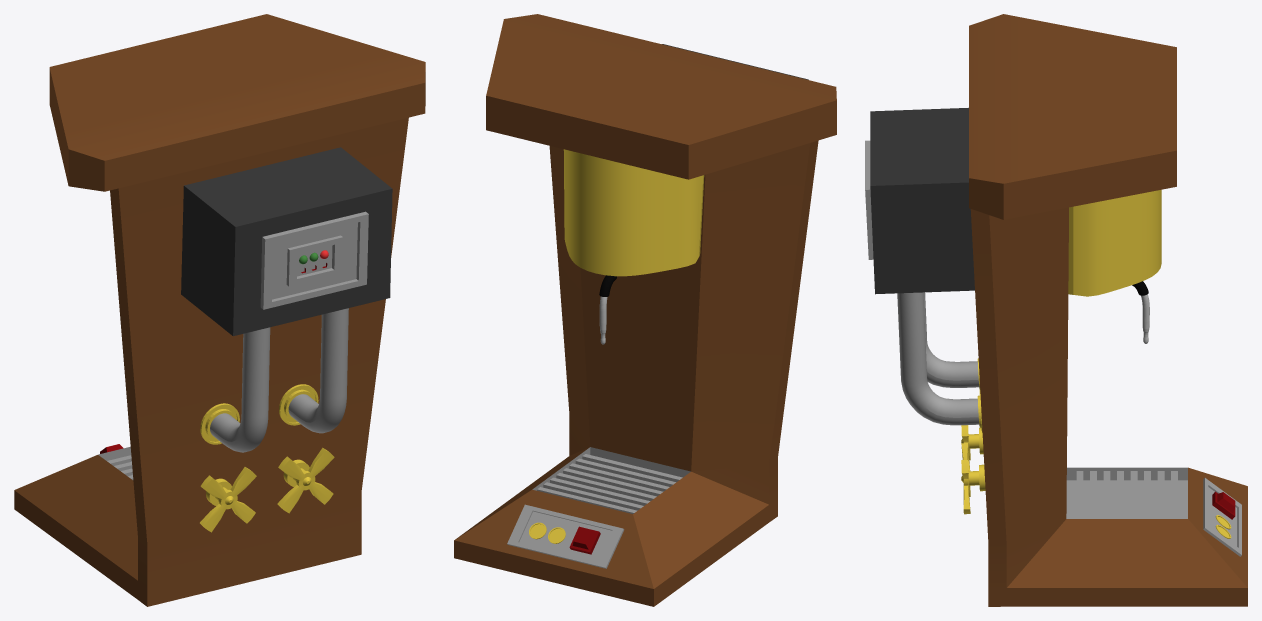
File: sutKopukMakine.fbx
3 renders of one model, left to right at view 1: azimuth 30°, elevation 25°; view 2: azimuth 150°, elevation 25°; view 3: azimuth 270°, elevation 25°, orthographic. The views are drawn at different scales.
Parts seen in each view (by area): view 1: sutkopuk; view 2: sutkopuk, sutbuton; view 3: sutkopuk.
Boxes of the visible parts, bbox=[...] form: sutkopuk: bbox=[14, 14, 425, 606]; sutkopuk: bbox=[454, 14, 836, 606]; sutbuton: bbox=[569, 526, 600, 554]; sutkopuk: bbox=[865, 14, 1247, 606].
Size of the model in its own units: 163 by 205 by 155.
